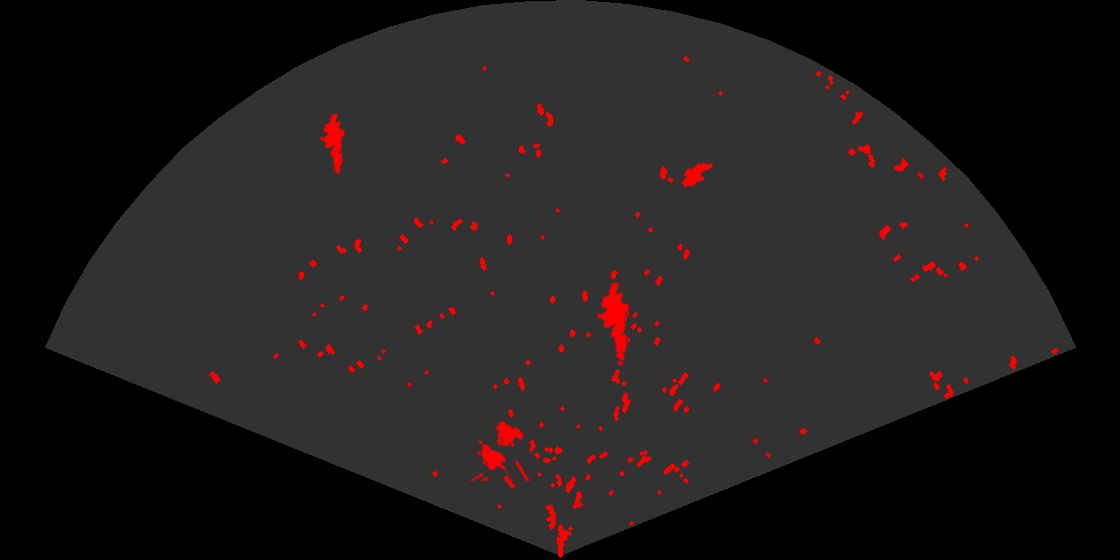AUV: (680, 161, 715, 189)
cage: (468, 420, 532, 481)
frogman: (595, 283, 631, 363), (318, 114, 346, 176)
